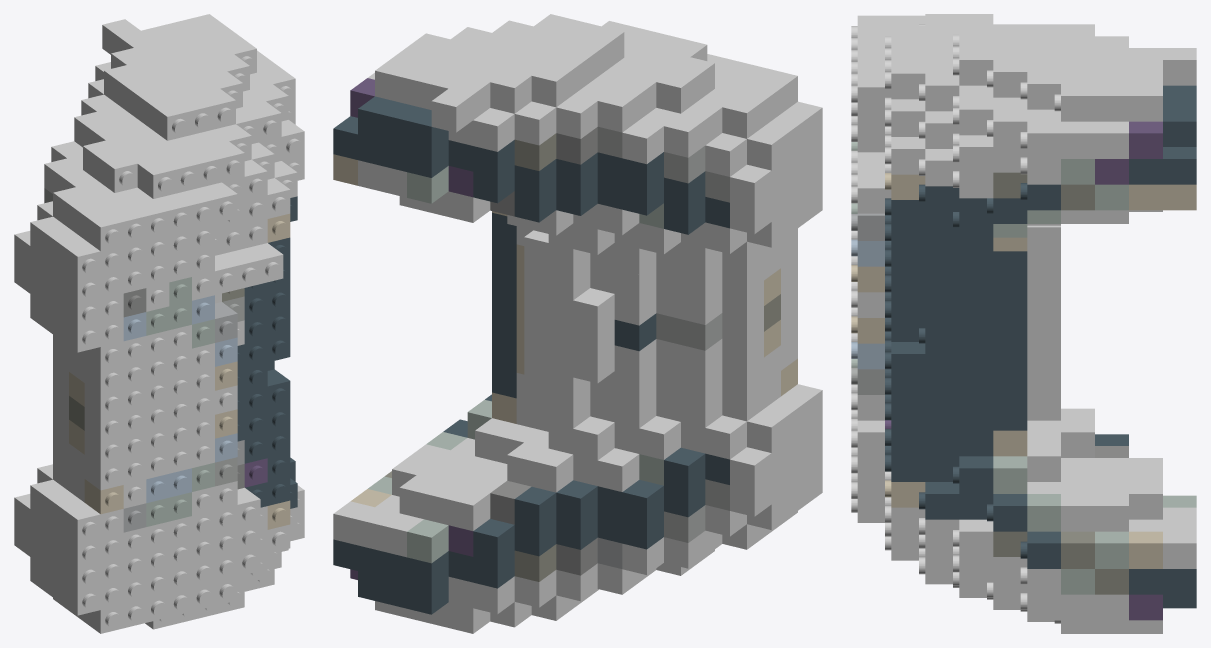
File: full.glb
3 renders of one model, left to right at view 1: azimuth 30°, elevation 25°; view 2: azimuth 150°, elevation 25°; view 3: azimuth 270°, elevation 25°, orthographic. The views are drawn at different scales.
Visible parts, largest first — view 1: world; view 2: world; view 3: world.
Part boxes in pixels (bbox=[...]): world: bbox=[14, 14, 304, 633]; world: bbox=[333, 14, 822, 633]; world: bbox=[851, 14, 1196, 633].
Size of the model in its own units: 104 by 168 by 97.8.
